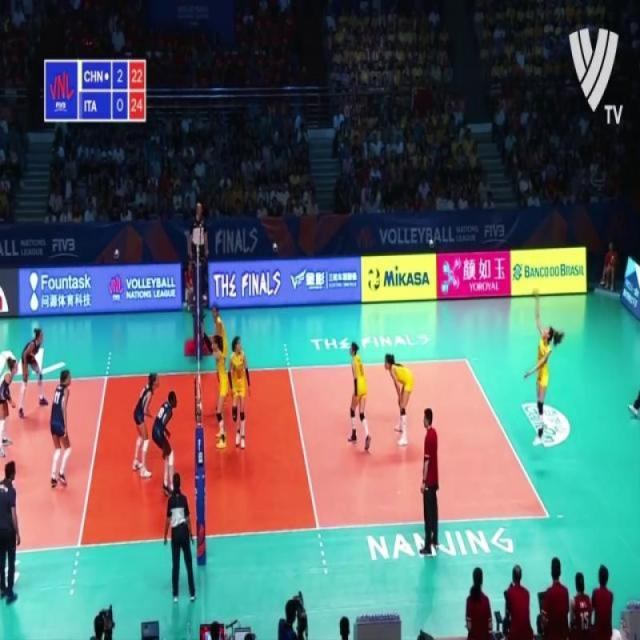volleyball: (367, 268, 382, 292), (532, 286, 540, 298)
